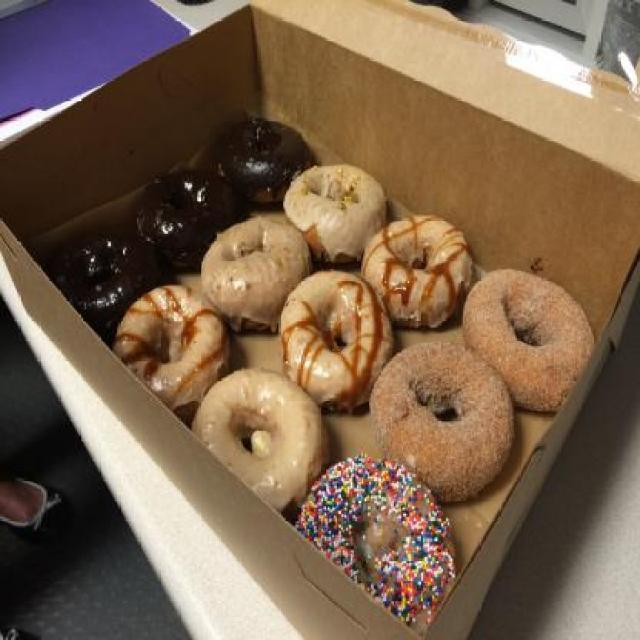Bagel: (297, 452, 453, 630), (373, 342, 515, 506), (191, 364, 329, 514), (461, 266, 597, 408), (280, 268, 394, 414), (112, 284, 228, 424), (196, 210, 312, 333), (361, 208, 473, 332), (280, 165, 389, 264), (136, 161, 232, 267), (51, 226, 148, 330), (213, 114, 310, 202)
